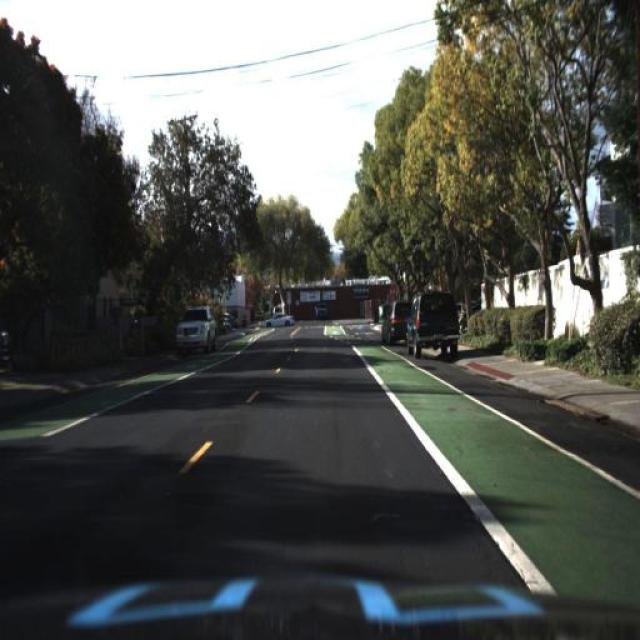car: (406, 288, 462, 362), (172, 300, 220, 356), (381, 296, 410, 346), (260, 309, 296, 333)
